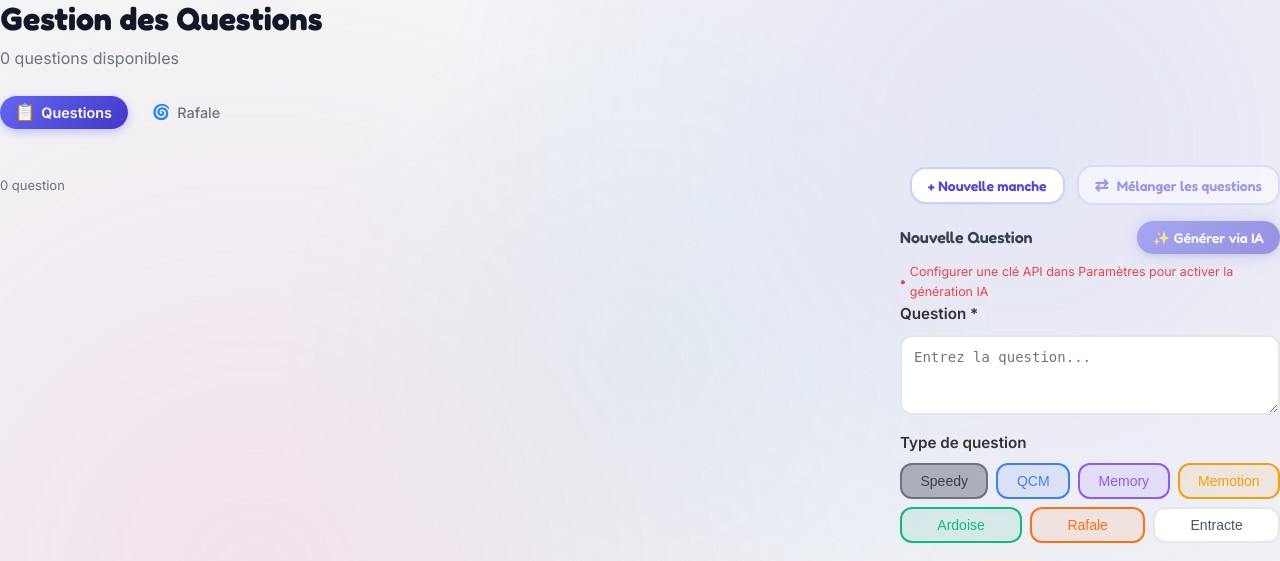
Test: QuestionsPage — sous-éditeur MEMORY d'une carte MEMOTION (#187) › affiche un message "pas de face REVEAL" spécifique MEMORY (grille = la carte)
Click the button "Memotion" at [1229, 481], box [1178, 463, 1279, 499]
(page scrolled)
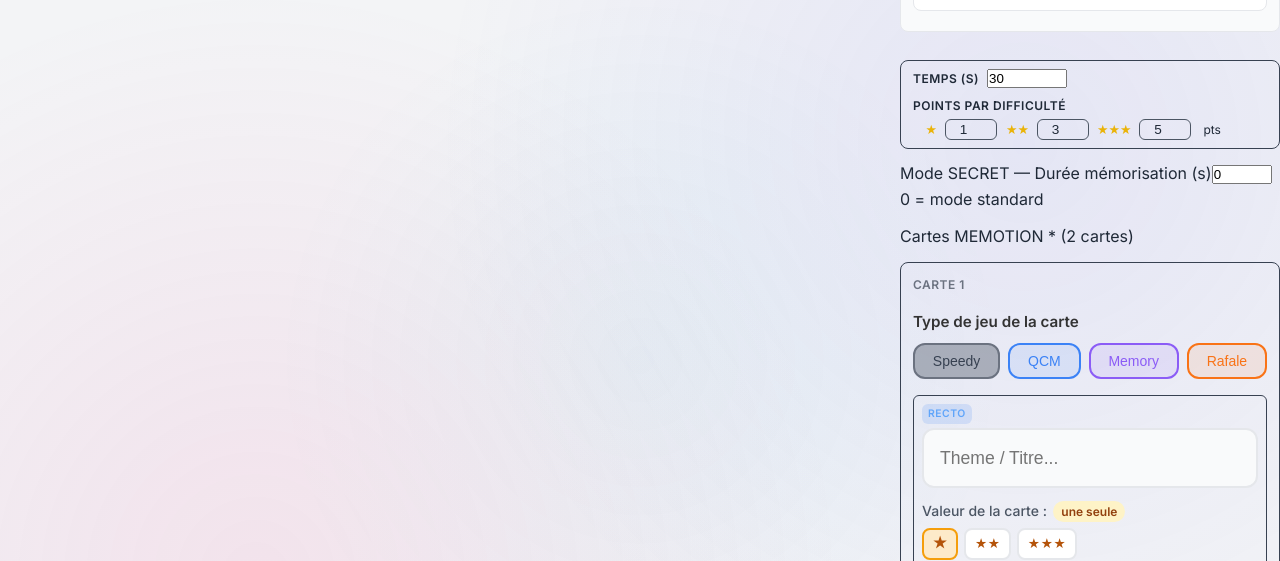
Click the button with class "type-btn" showing "Memory" at [1134, 361], box [1089, 343, 1179, 379]
(page scrolled)
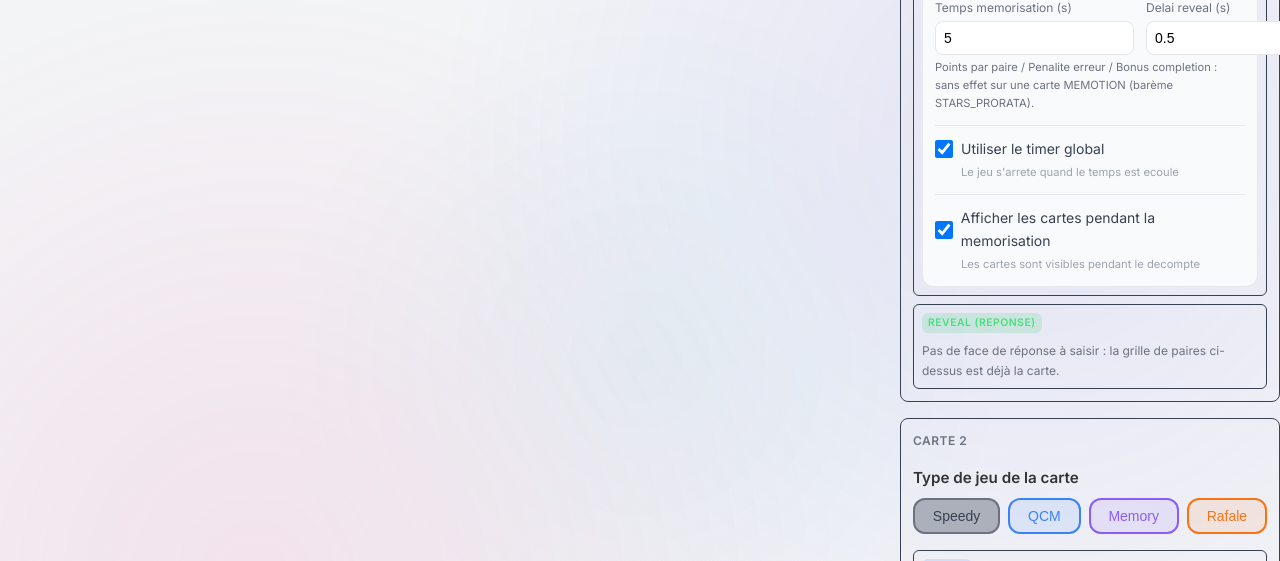
Check: the text with class "memotion-card-no-reveal-hint" shows "grille de paires", box [922, 344, 1225, 378]
